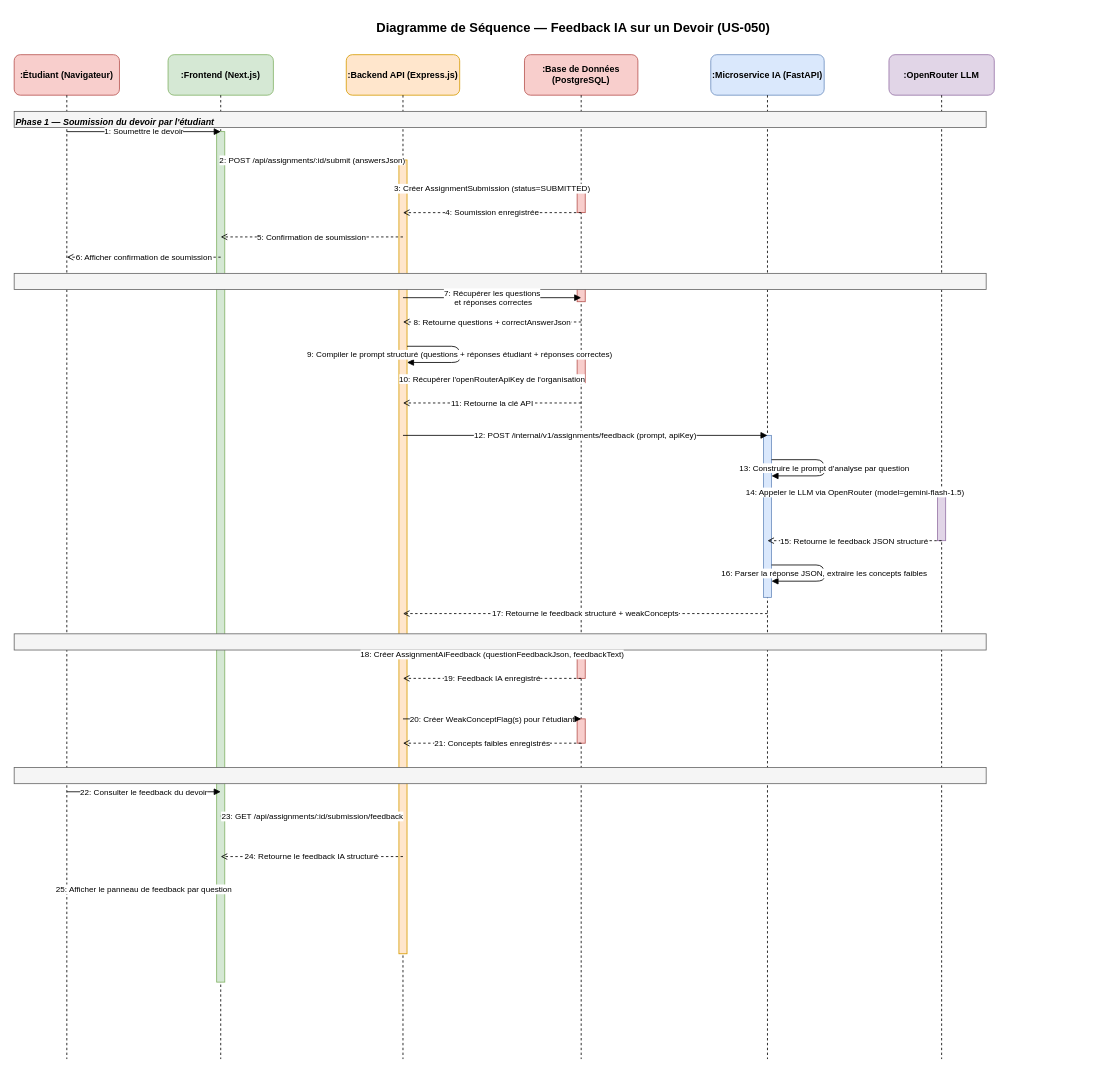
Image size: 1114x1074. Some labels were removed from this diagram. Here are the shapes that lost their labels. From the top down, the box of each, then its label:
(13, 273, 986, 290): Phase 2 — Génération asynchrone du feedback IA
(13, 633, 986, 650): Phase 3 — Sauvegarde du feedback et des concepts faibles
(13, 767, 986, 784): Phase 4 — Consultation du feedback par l'étudiant
